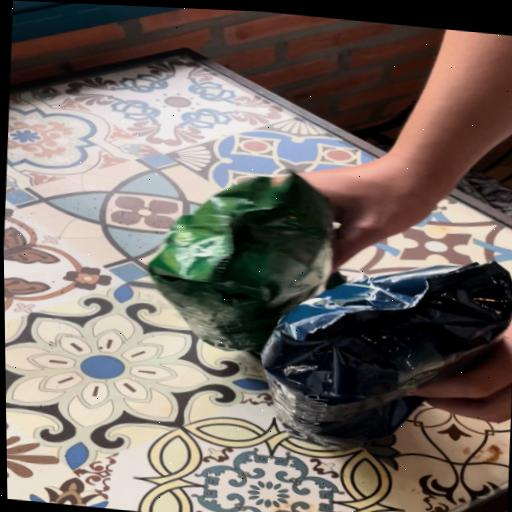cafe_hat: (262, 263, 512, 448)
cafe_xay: (148, 174, 340, 354)
